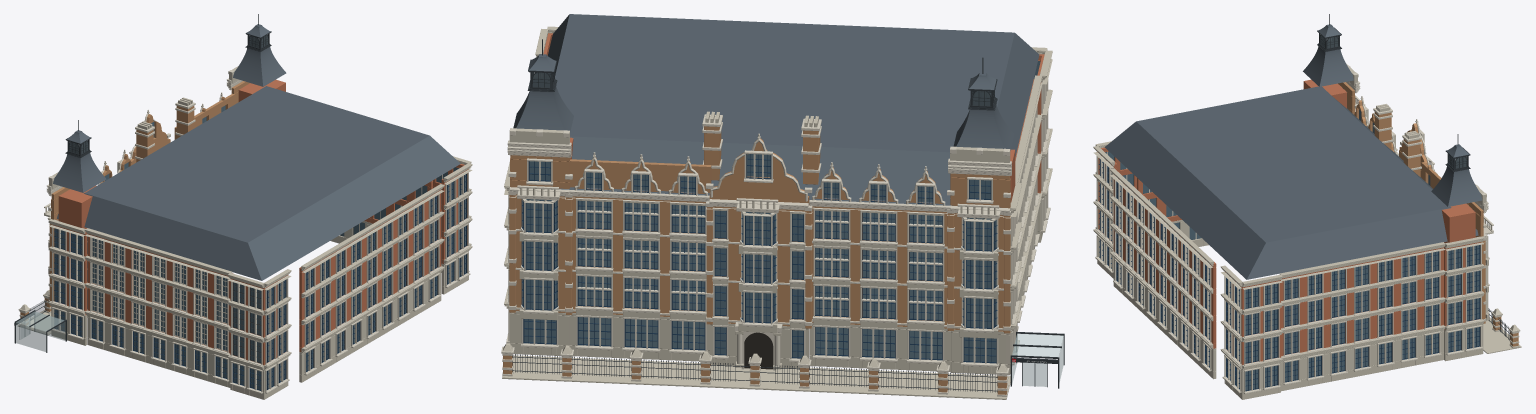
Rendered from sal-exterior-1c66628c6f7b.glb.
3 views of the same model, side by side, from view 1: azimuth 30°, elevation 25°; view 2: azimuth 150°, elevation 25°; view 3: azimuth 270°, elevation 25° (orthographic). The views are drawn at different scales.
Parts seen in each view (by area): view 1: SAL.001; view 2: SAL.001; view 3: SAL.001.
Boxes of the visible parts, x1=… form: SAL.001: x1=14, y1=14, x2=472, y2=399; SAL.001: x1=501, y1=14, x2=1064, y2=399; SAL.001: x1=1093, y1=14, x2=1521, y2=399.
Size of the model in its own units: 68.11 by 33.89 by 61.15.
